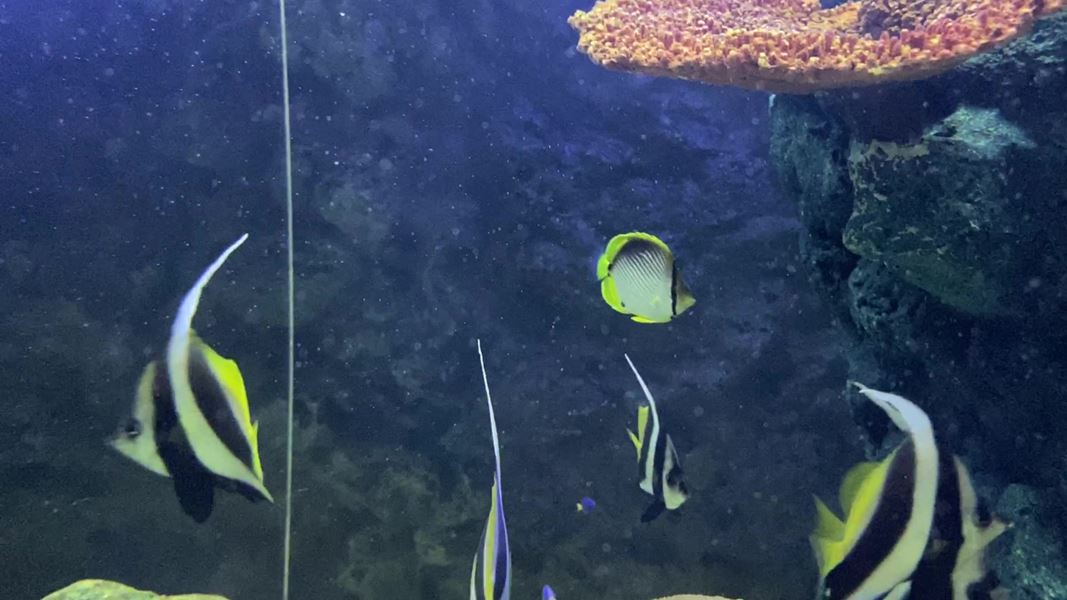Black-backed butterflyfish: (581, 223, 706, 332)
